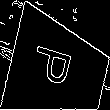P_E: (33, 45, 84, 94)
